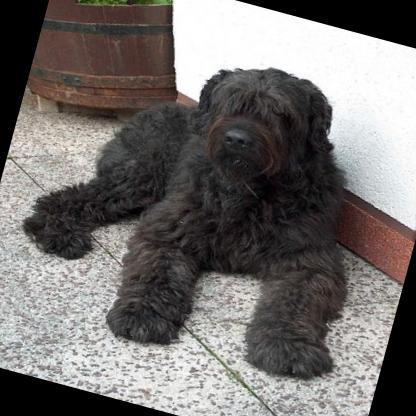Bouvier_des_Flandres: (0, 6, 410, 397)
